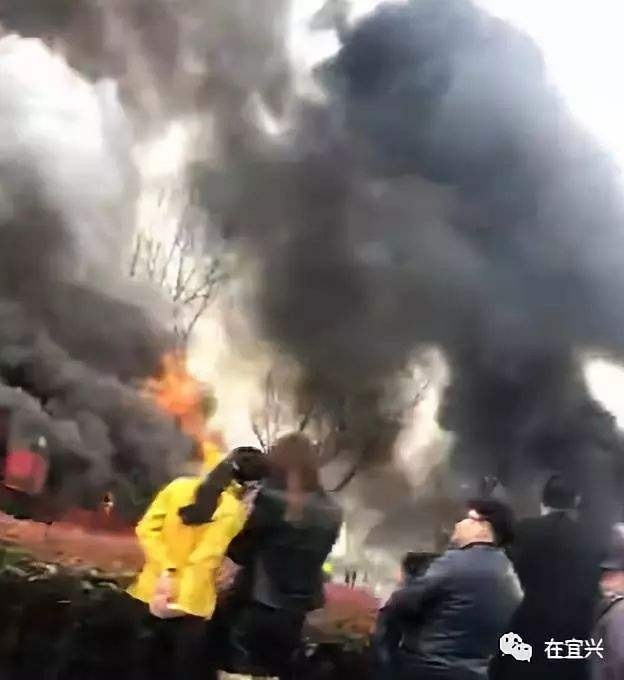fire: (138, 348, 214, 443)
